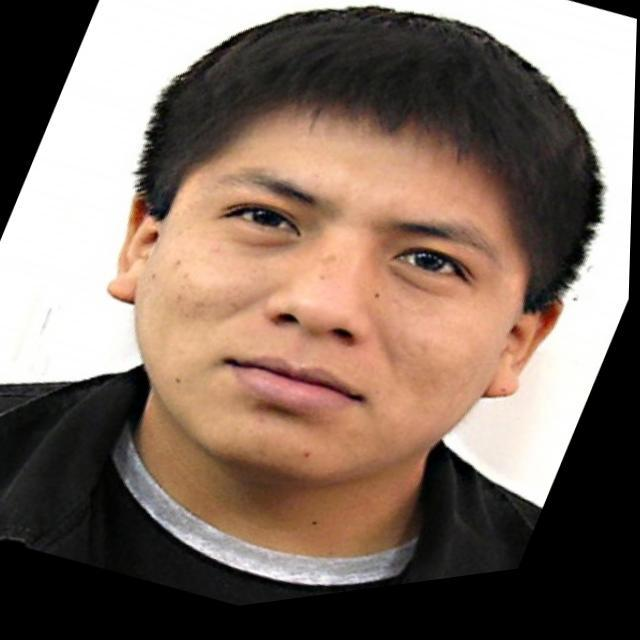Nonhelmet: (95, 6, 582, 490)
